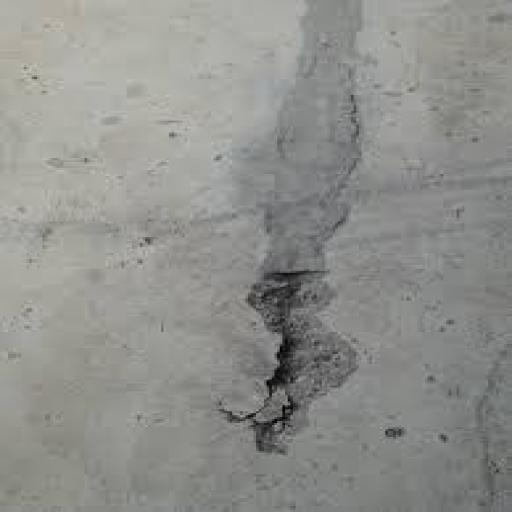spalling: (242, 269, 377, 455)
